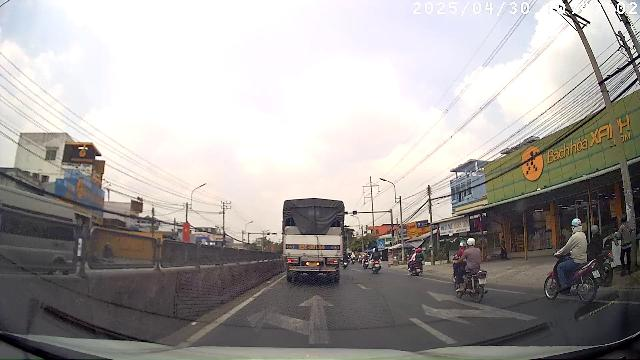423a-duong-nguoi-di-bo-sang-ngang-1: (377, 241, 385, 249)
